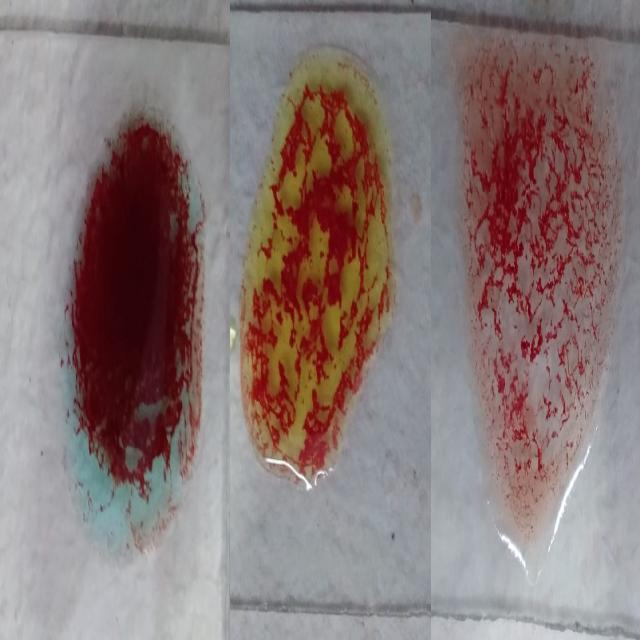A: (59, 100, 205, 564)
B: (240, 40, 389, 485)
D: (454, 48, 600, 552)
